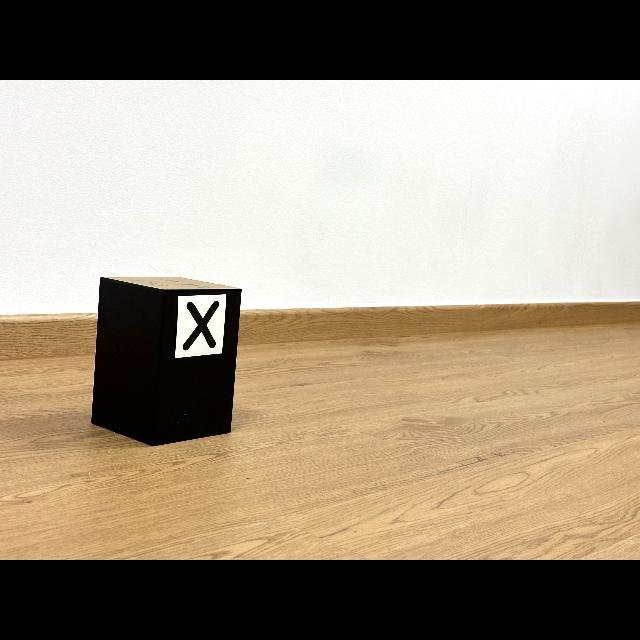X: (182, 300, 219, 351)
